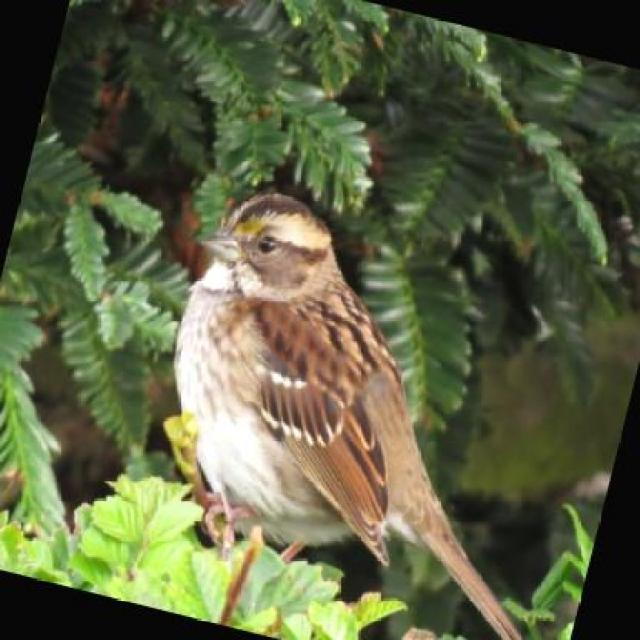Bird: (171, 181, 516, 622)
